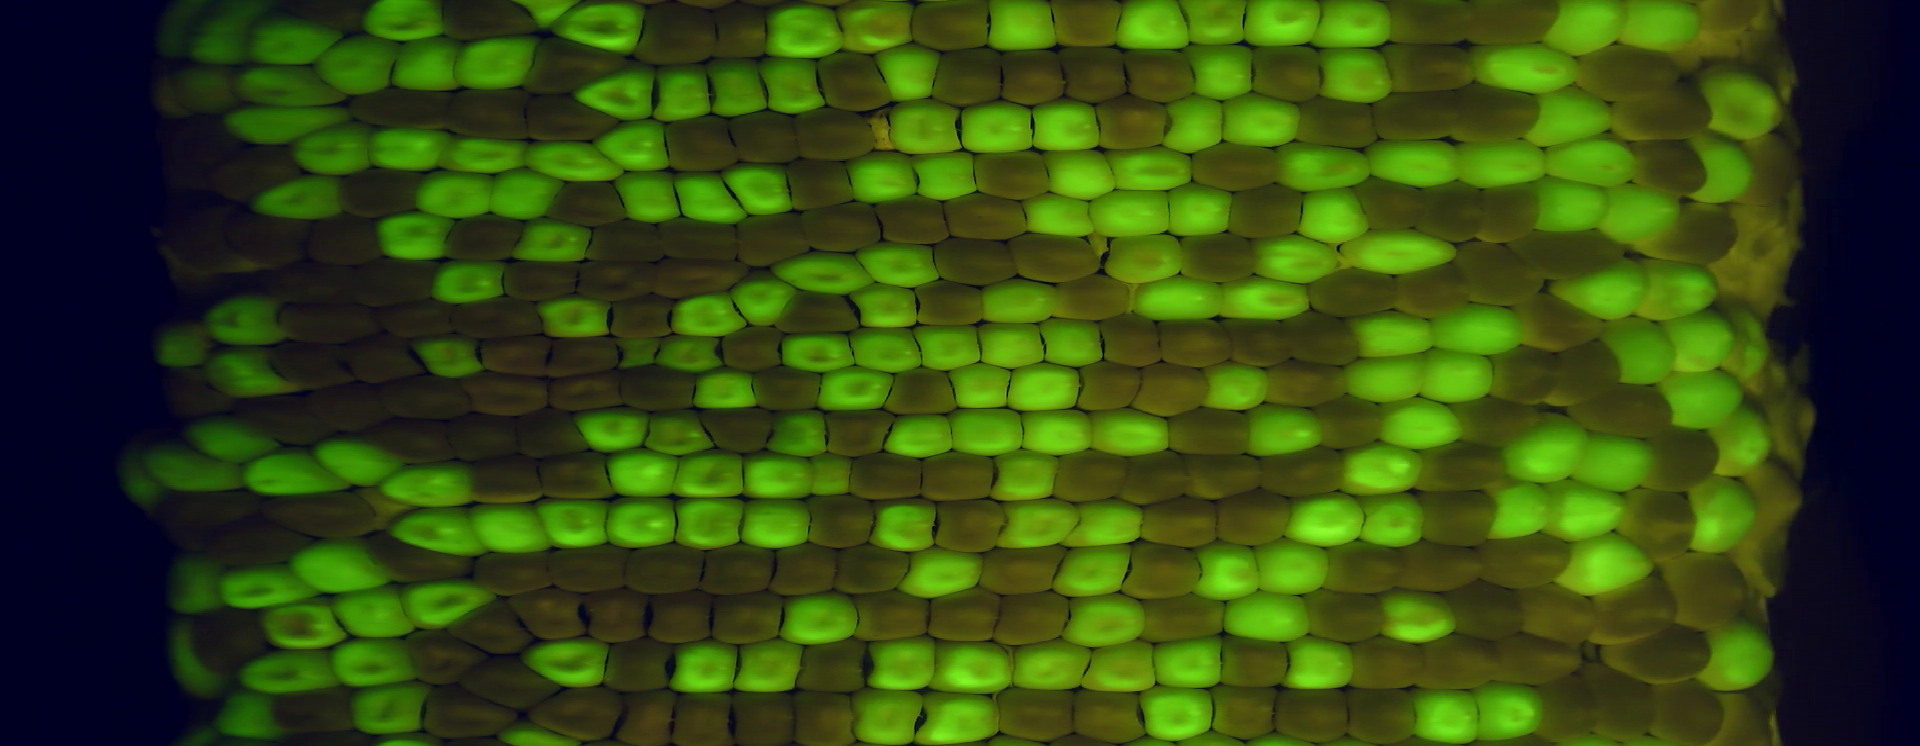fluorescent: (1554, 532, 1662, 594), (1489, 414, 1589, 480), (1692, 616, 1778, 693), (1545, 258, 1651, 317), (1697, 62, 1777, 140), (291, 532, 387, 594), (1599, 316, 1681, 388), (1686, 474, 1757, 557), (386, 501, 487, 559), (1651, 369, 1747, 429), (1640, 254, 1722, 322), (1338, 227, 1457, 273), (931, 637, 1016, 701), (1544, 477, 1626, 543), (220, 103, 350, 145), (165, 619, 233, 698), (240, 450, 354, 496), (394, 576, 495, 628), (1524, 88, 1618, 145), (1660, 305, 1731, 379), (1580, 424, 1653, 495), (238, 647, 347, 695), (519, 635, 613, 690), (312, 34, 400, 93), (1336, 440, 1428, 496), (1365, 137, 1466, 189), (774, 589, 864, 646), (328, 630, 411, 691), (551, 2, 648, 55), (1599, 181, 1679, 245), (1458, 138, 1551, 192), (142, 443, 244, 492), (201, 349, 307, 396), (1704, 407, 1777, 475), (465, 503, 557, 557), (181, 418, 287, 464), (912, 692, 1003, 746), (378, 458, 480, 506), (1251, 537, 1332, 597), (1221, 589, 1315, 641), (1543, 1, 1629, 58), (230, 66, 349, 107), (252, 17, 345, 69), (522, 138, 627, 184), (1249, 233, 1340, 285), (1406, 682, 1480, 746), (216, 563, 329, 605), (310, 437, 407, 486), (1472, 45, 1584, 87), (451, 39, 538, 93), (187, 1, 261, 65), (1380, 588, 1461, 646), (289, 122, 375, 176), (1528, 176, 1608, 234), (1062, 593, 1149, 646), (347, 684, 433, 736), (1191, 539, 1266, 600), (1542, 135, 1637, 183), (771, 249, 867, 296), (1213, 274, 1311, 321), (534, 496, 615, 552), (1689, 137, 1755, 206), (1419, 345, 1496, 404), (844, 687, 921, 746), (900, 550, 988, 601), (1476, 680, 1547, 744), (1286, 492, 1368, 548), (1618, 1, 1707, 51), (1342, 352, 1431, 402), (1276, 140, 1363, 191), (672, 170, 753, 225), (997, 497, 1085, 548), (574, 69, 656, 122), (591, 118, 673, 171), (1011, 638, 1093, 692), (760, 9, 846, 60), (1051, 544, 1136, 595), (866, 636, 940, 695), (1427, 307, 1518, 355), (200, 295, 287, 345), (487, 167, 568, 220), (601, 495, 682, 549), (669, 494, 746, 550), (716, 160, 795, 216), (1240, 1, 1326, 51), (1309, 1, 1395, 51), (1138, 687, 1217, 741), (1296, 187, 1371, 244), (1318, 48, 1393, 104), (1104, 145, 1196, 191), (1356, 488, 1427, 548), (666, 638, 740, 696), (883, 99, 961, 153), (1150, 636, 1228, 690), (1221, 94, 1303, 146), (1381, 398, 1467, 447), (955, 100, 1036, 152), (366, 126, 451, 175), (841, 1, 915, 58), (1101, 232, 1185, 281), (1127, 279, 1226, 321), (1038, 147, 1120, 197), (1065, 499, 1147, 549), (1280, 633, 1354, 688), (1089, 191, 1177, 238), (427, 257, 513, 305), (1087, 407, 1173, 454), (733, 639, 807, 695), (391, 36, 460, 93), (1187, 43, 1256, 100), (983, 1, 1063, 51), (1245, 403, 1322, 454), (1485, 481, 1551, 541), (872, 42, 939, 100), (511, 217, 591, 266), (331, 588, 411, 637), (1033, 314, 1108, 366), (738, 496, 814, 548), (949, 405, 1025, 457), (868, 497, 940, 551), (1114, 1, 1191, 51), (604, 447, 681, 497), (377, 209, 451, 262), (1348, 311, 1435, 355), (852, 243, 942, 285), (440, 130, 531, 171), (762, 55, 827, 114), (847, 151, 923, 201), (1026, 100, 1102, 151), (1009, 361, 1082, 413), (414, 171, 497, 217), (253, 176, 347, 217), (571, 405, 651, 452), (538, 293, 616, 341), (909, 320, 987, 367), (642, 404, 713, 457), (651, 62, 716, 120), (973, 318, 1049, 367), (849, 325, 924, 374), (669, 292, 751, 337), (1166, 181, 1233, 236), (1085, 642, 1158, 692), (978, 279, 1064, 322), (258, 606, 344, 649), (707, 55, 764, 119), (163, 555, 227, 612), (1018, 195, 1098, 240), (673, 450, 748, 499), (1018, 404, 1092, 453), (1161, 98, 1226, 154), (989, 451, 1062, 501), (216, 688, 285, 740), (879, 412, 956, 458), (775, 330, 856, 374), (817, 366, 895, 412), (364, 1, 447, 43), (729, 274, 796, 326), (408, 334, 486, 379), (911, 151, 980, 201), (115, 447, 170, 510), (846, 285, 922, 331), (618, 169, 682, 223), (656, 331, 730, 377), (740, 453, 814, 499), (1202, 363, 1271, 412), (945, 364, 1015, 410), (765, 407, 828, 458), (1182, 1, 1247, 48), (154, 320, 216, 367), (693, 367, 760, 410), (1734, 305, 1767, 383), (496, 717, 583, 746), (151, 71, 200, 122), (184, 67, 240, 111), (156, 1, 190, 60), (516, 1, 578, 31), (808, 454, 853, 494), (618, 334, 665, 372), (372, 733, 441, 746), (1562, 737, 1621, 746), (1624, 737, 1670, 746)
nonfluorescent: (1659, 550, 1749, 627), (1506, 225, 1629, 281), (1600, 624, 1711, 685), (1643, 197, 1740, 266), (165, 208, 264, 274), (361, 529, 478, 586), (1575, 661, 1657, 741), (1452, 236, 1547, 305), (255, 490, 378, 541), (149, 486, 257, 544), (1603, 87, 1716, 141), (1616, 488, 1695, 565), (231, 392, 338, 448), (1569, 383, 1675, 440), (200, 514, 316, 566), (1583, 579, 1678, 642), (152, 111, 228, 189), (631, 2, 718, 69), (1478, 527, 1573, 587), (523, 37, 628, 91), (528, 684, 628, 740), (1642, 676, 1724, 745), (444, 83, 536, 145), (1577, 47, 1678, 102), (351, 85, 454, 137), (1005, 228, 1101, 284), (460, 654, 560, 708), (522, 89, 620, 143), (189, 608, 271, 671), (214, 145, 301, 205), (419, 684, 516, 737), (448, 598, 535, 657), (1266, 684, 1354, 741), (1515, 292, 1607, 347), (976, 541, 1068, 597), (1512, 581, 1596, 641), (622, 544, 714, 598), (993, 587, 1075, 647), (1494, 632, 1587, 685), (1453, 85, 1540, 141), (661, 113, 744, 171), (1085, 97, 1176, 151), (1419, 630, 1499, 691), (997, 684, 1081, 741), (369, 415, 463, 467), (1413, 486, 1495, 545), (1382, 43, 1480, 92), (1124, 540, 1202, 601), (1629, 138, 1712, 196), (1223, 183, 1308, 239), (801, 197, 885, 254), (967, 147, 1056, 201), (1131, 358, 1212, 416), (1338, 685, 1419, 744), (1065, 684, 1153, 737), (1247, 40, 1322, 103), (1395, 541, 1487, 593), (507, 586, 589, 643), (1307, 266, 1396, 318), (1371, 91, 1467, 140), (376, 371, 471, 420), (1216, 632, 1291, 695), (408, 627, 489, 685), (929, 584, 1005, 646), (1054, 42, 1131, 102), (1738, 135, 1798, 212), (1347, 633, 1424, 693), (1292, 97, 1378, 151), (1412, 443, 1506, 492), (1548, 342, 1619, 407), (787, 107, 877, 158), (1117, 44, 1200, 99), (814, 51, 894, 109), (817, 404, 896, 462), (658, 212, 738, 268), (1185, 143, 1288, 187), (793, 639, 876, 695), (934, 494, 1009, 554), (449, 296, 551, 341), (541, 543, 634, 590), (942, 191, 1032, 240), (1138, 497, 1220, 551), (732, 209, 811, 266), (1487, 345, 1561, 404), (1162, 407, 1254, 454), (1131, 594, 1228, 639), (1308, 588, 1384, 646), (269, 686, 360, 734), (269, 261, 358, 310), (312, 212, 391, 267), (1177, 232, 1256, 285), (936, 234, 1015, 288), (874, 192, 954, 246), (934, 45, 1004, 107), (460, 367, 552, 414), (1202, 682, 1280, 737), (996, 47, 1068, 105), (840, 451, 924, 501), (1458, 394, 1540, 446), (342, 334, 430, 382), (602, 637, 677, 693), (276, 300, 380, 341), (1531, 680, 1600, 740), (1321, 540, 1404, 590), (1261, 361, 1351, 408), (1387, 265, 1464, 318), (618, 361, 699, 413), (447, 410, 524, 464), (853, 586, 931, 639), (571, 254, 658, 301), (1353, 175, 1427, 232), (729, 108, 802, 164), (1420, 179, 1485, 243), (1646, 429, 1713, 490), (909, 1, 991, 51), (693, 405, 775, 456), (649, 254, 744, 296), (1449, 584, 1520, 642), (790, 688, 861, 746), (1052, 448, 1129, 501), (307, 381, 388, 431), (233, 213, 313, 263), (1255, 453, 1344, 499), (804, 492, 878, 548), (729, 684, 795, 745), (351, 255, 436, 303), (438, 1, 541, 40), (583, 586, 651, 644), (645, 588, 715, 646), (1178, 450, 1264, 496), (709, 590, 786, 642), (669, 686, 735, 746), (781, 156, 862, 205), (918, 452, 999, 501), (1160, 310, 1228, 367), (1469, 1, 1559, 45), (538, 451, 616, 501), (160, 369, 235, 421), (1052, 274, 1136, 321), (340, 167, 422, 214), (469, 454, 549, 503), (775, 290, 863, 334), (703, 545, 778, 597), (748, 363, 827, 412), (1477, 183, 1540, 243), (547, 179, 629, 225), (585, 216, 662, 265), (1213, 495, 1291, 544), (1120, 452, 1194, 503), (443, 211, 518, 261), (616, 684, 677, 745), (375, 296, 459, 341), (479, 331, 555, 380), (1074, 360, 1142, 414), (710, 2, 770, 64), (831, 546, 912, 592), (1704, 691, 1771, 746), (1093, 314, 1161, 367), (884, 366, 956, 416), (519, 410, 591, 461), (497, 260, 582, 303), (471, 548, 553, 592), (771, 543, 840, 595), (1286, 314, 1356, 365), (1392, 1, 1473, 45), (916, 278, 984, 330), (272, 342, 349, 386), (1314, 396, 1385, 443), (1051, 1, 1123, 48), (1224, 314, 1288, 365), (544, 372, 626, 410), (721, 325, 790, 370), (609, 292, 675, 338), (546, 333, 620, 375), (287, 1, 375, 33), (1766, 305, 1813, 361), (1700, 1, 1763, 33)
